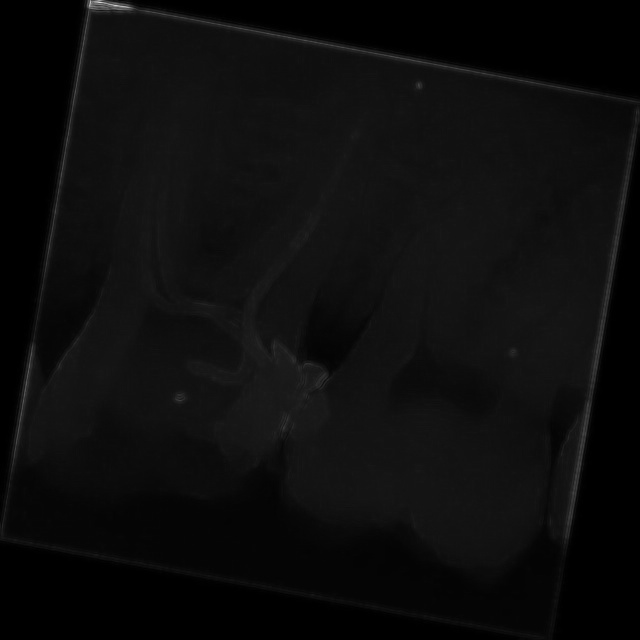Class 2- incomplete endodontic treatment: (16, 21, 397, 542)
